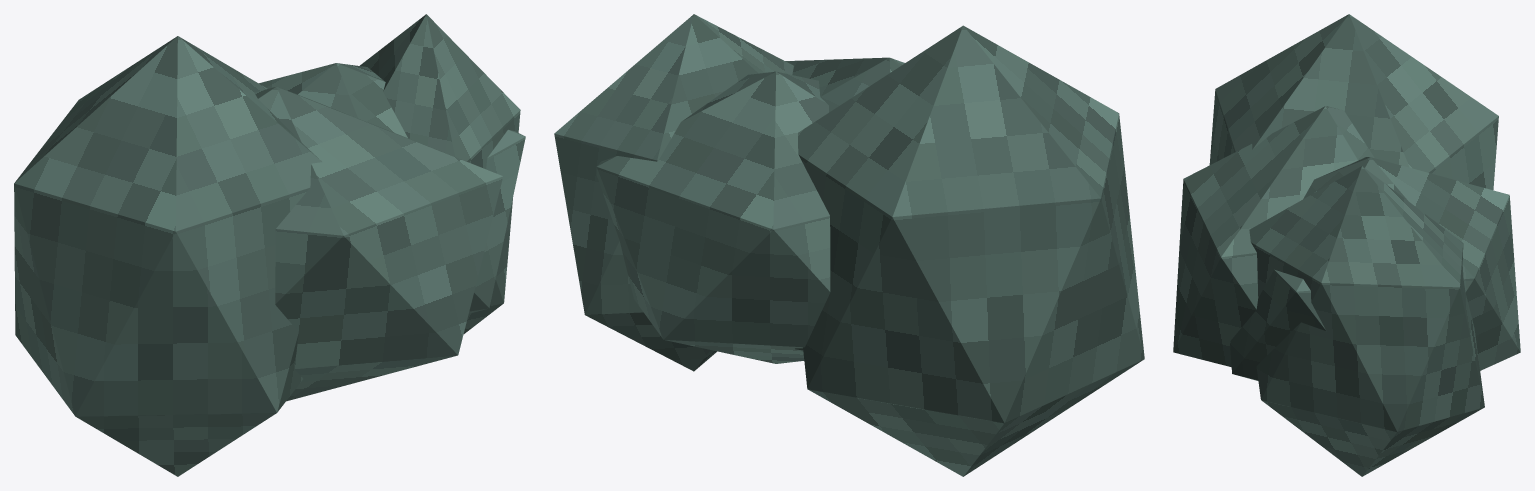
Rendered from ruin_11.glb.
3 views of the same model, side by side, from view 1: azimuth 30°, elevation 25°; view 2: azimuth 150°, elevation 25°; view 3: azimuth 270°, elevation 25° (orthographic). The views are drawn at different scales.
Parts seen in each view (by area): view 1: WeatheredStone, WeatheredStone.001, WeatheredStone.003, WeatheredStone.002; view 2: WeatheredStone, WeatheredStone.002, WeatheredStone.003, WeatheredStone.001; view 3: WeatheredStone.003, WeatheredStone, WeatheredStone.001, WeatheredStone.002.
Boxes of the visible parts, x1,y1,x2,y2 form: WeatheredStone: [14, 36, 321, 476]; WeatheredStone.001: [254, 86, 503, 401]; WeatheredStone.003: [360, 14, 520, 333]; WeatheredStone.002: [259, 63, 525, 313]; WeatheredStone: [798, 25, 1144, 476]; WeatheredStone.002: [596, 71, 830, 363]; WeatheredStone.003: [554, 14, 793, 371]; WeatheredStone.001: [785, 57, 904, 351]; WeatheredStone.003: [1249, 166, 1484, 476]; WeatheredStone: [1209, 14, 1498, 190]; WeatheredStone.001: [1173, 106, 1374, 367]; WeatheredStone.002: [1230, 157, 1520, 380].
Bounding box in the file's own units: 2.64 × 2.22 × 1.78.
1 material, 1 textured.
